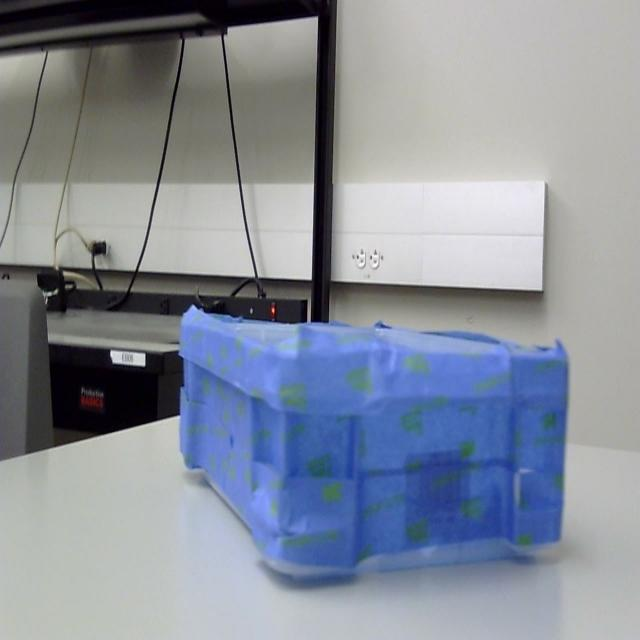bucket: (178, 307, 570, 591)
